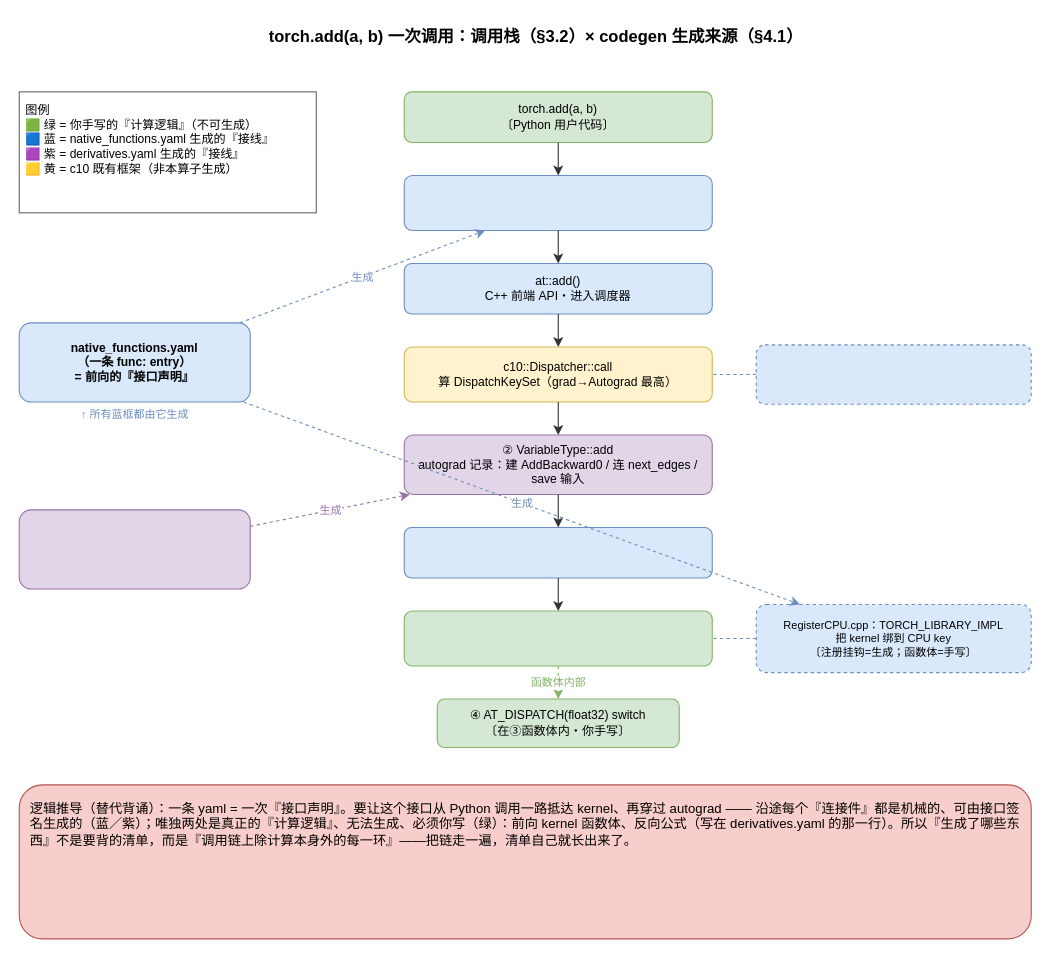
Some shapes in this 1051 by 958 pixel diagram are drawn without their labels. Each missing label, with the box of its shape:
at::redispatch::add() 排除 Autograd key（剥开 variable）: (403, 526, 712, 578)
derivatives.yaml （一条 name: entry） = 反向公式（你写的那行）: (18, 509, 250, 589)
① THPVariable_add Python↔C++ 绑定・解析参数・解包 PyObject→Tensor: (403, 174, 712, 230)
③ at::native::add —— kernel 函数体 〔真正算加法・放 aten/native/〕: (403, 610, 712, 666)
算子 schema 注册进 dispatch 表 （op 符号得先『存在』才能被派发）: (755, 344, 1031, 404)
